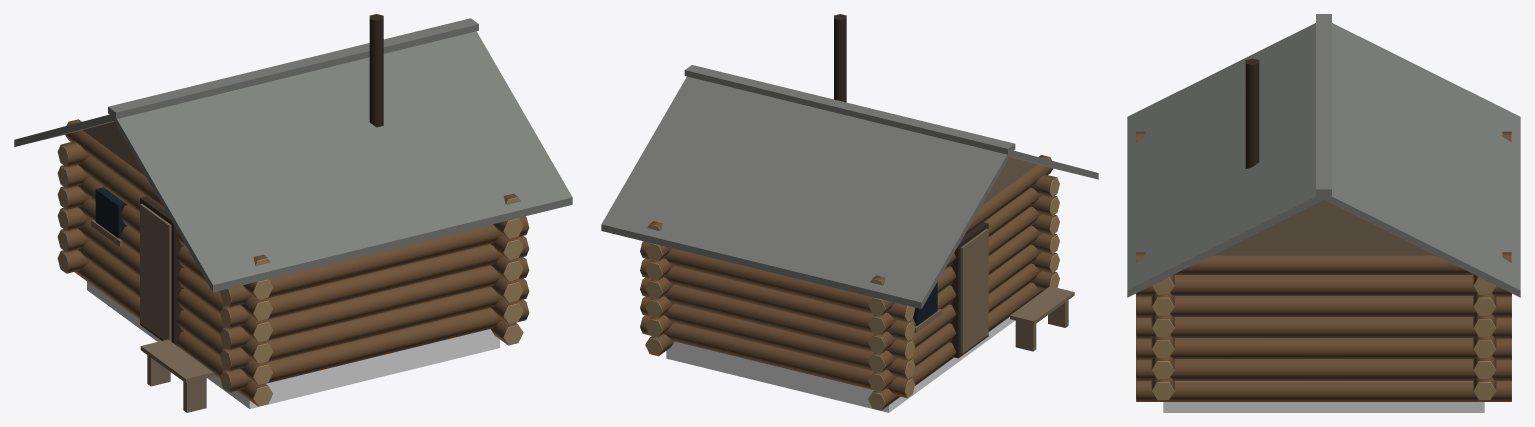
File: izba-banya.glb
The picture shows the model from 3 angles, left to right: view 1: azimuth 30°, elevation 25°; view 2: azimuth 150°, elevation 25°; view 3: azimuth 270°, elevation 25°; orthographic projection. The views are drawn at different scales.
Visible parts, largest first — view 1: 04_paint2, 01_paint1, 03_#7a6a56, solid, 02_#a08660, 00_#3a3028, 05_#1c2630; view 2: 04_paint2, 01_paint1, 03_#7a6a56, solid, 02_#a08660, 00_#3a3028, 05_#1c2630; view 3: 04_paint2, 01_paint1, 03_#7a6a56, solid, 02_#a08660, 00_#3a3028.
Part boxes in pixels (x1,y1,x2,y2): 04_paint2: (14,18,572,292); 01_paint1: (61,119,528,405); 03_#7a6a56: (82,122,213,412); solid: (87,281,499,408); 02_#a08660: (57,145,529,406); 00_#3a3028: (140,14,383,346); 05_#1c2630: (95,187,127,238); 04_paint2: (601,65,1098,308); 01_paint1: (640,155,1056,409); 03_#7a6a56: (914,157,1074,353); solid: (666,317,1014,412); 02_#a08660: (640,177,1059,410); 00_#3a3028: (834,14,988,358); 05_#1c2630: (913,282,937,325); 04_paint2: (1127,14,1520,297); 01_paint1: (1136,131,1511,401); 03_#7a6a56: (1212,200,1435,255); solid: (1163,275,1484,412); 02_#a08660: (1136,132,1511,401); 00_#3a3028: (1245,58,1259,168).
Size of the model in its own units: 4.64 by 3.87 by 4.4.
